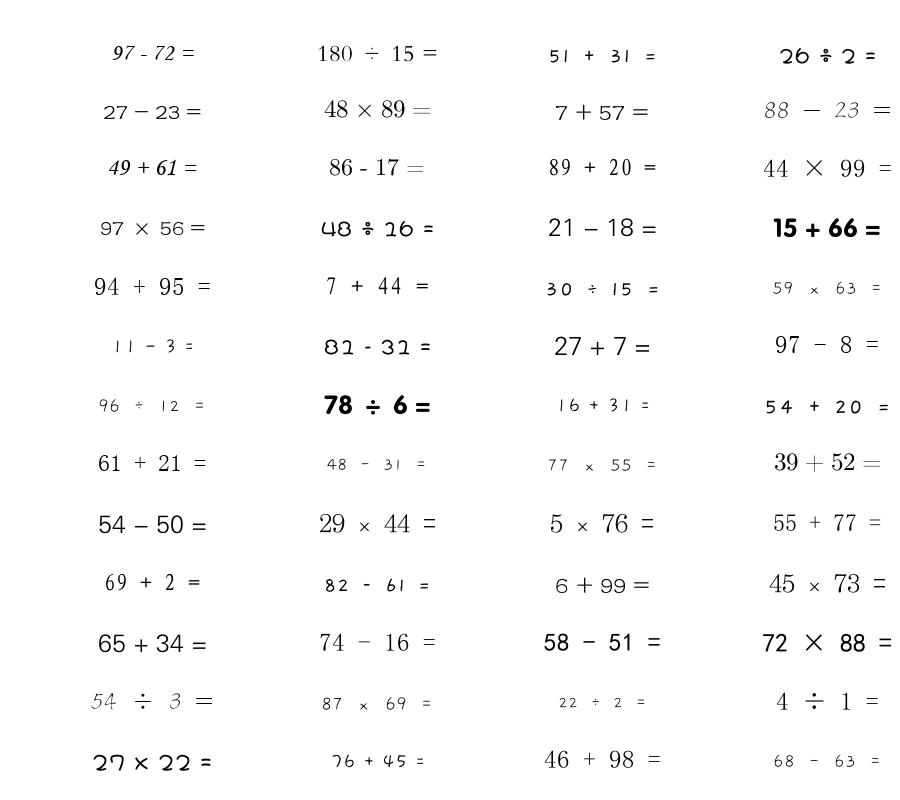MQ: (762, 633, 892, 652), (319, 513, 436, 533), (763, 159, 892, 177), (769, 574, 886, 593), (91, 692, 213, 710), (773, 218, 881, 238), (324, 395, 431, 415), (774, 453, 881, 473), (94, 277, 211, 295), (319, 633, 436, 651), (544, 633, 661, 651), (544, 750, 661, 768), (548, 218, 657, 237), (98, 515, 207, 534), (98, 634, 207, 653), (317, 45, 438, 62), (92, 754, 212, 771), (764, 102, 891, 118), (550, 514, 654, 533), (548, 158, 656, 176), (324, 100, 431, 118), (321, 220, 434, 237), (325, 277, 429, 295), (776, 692, 879, 710), (554, 336, 651, 355), (773, 514, 881, 531), (763, 400, 891, 414), (775, 336, 879, 353), (329, 158, 425, 176), (98, 455, 206, 471), (104, 573, 200, 591), (324, 339, 431, 355), (779, 47, 876, 64), (555, 577, 650, 594), (545, 282, 660, 296), (555, 104, 649, 121), (321, 697, 433, 711), (772, 281, 883, 295), (547, 49, 657, 63), (107, 159, 197, 176), (773, 754, 882, 768), (98, 399, 206, 413), (323, 578, 431, 592), (100, 221, 205, 235), (547, 459, 658, 472), (555, 398, 650, 413), (330, 754, 425, 769), (103, 105, 201, 119), (111, 45, 194, 61), (327, 458, 427, 471), (111, 339, 194, 354), (558, 697, 647, 709)
